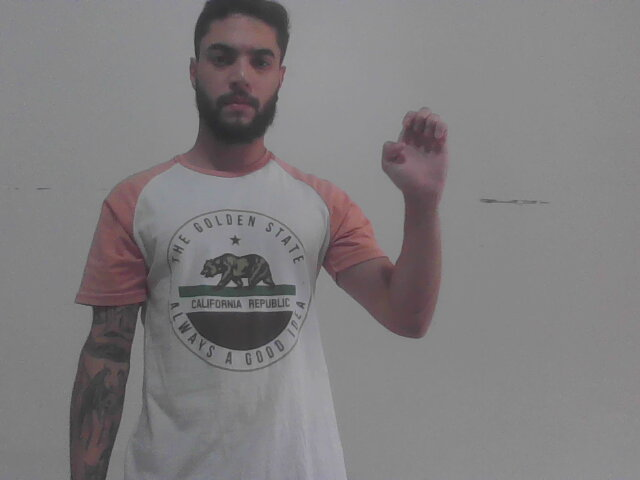e: (379, 99, 454, 211)
